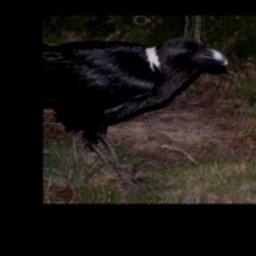Crow: (44, 30, 230, 196)
